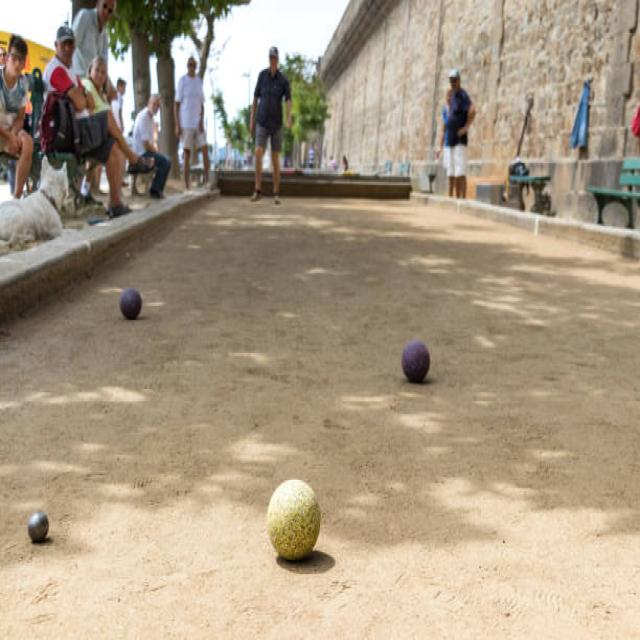hatball: (20, 503, 51, 548)
petanque: (260, 476, 327, 577), (399, 334, 434, 386), (113, 285, 145, 328)
